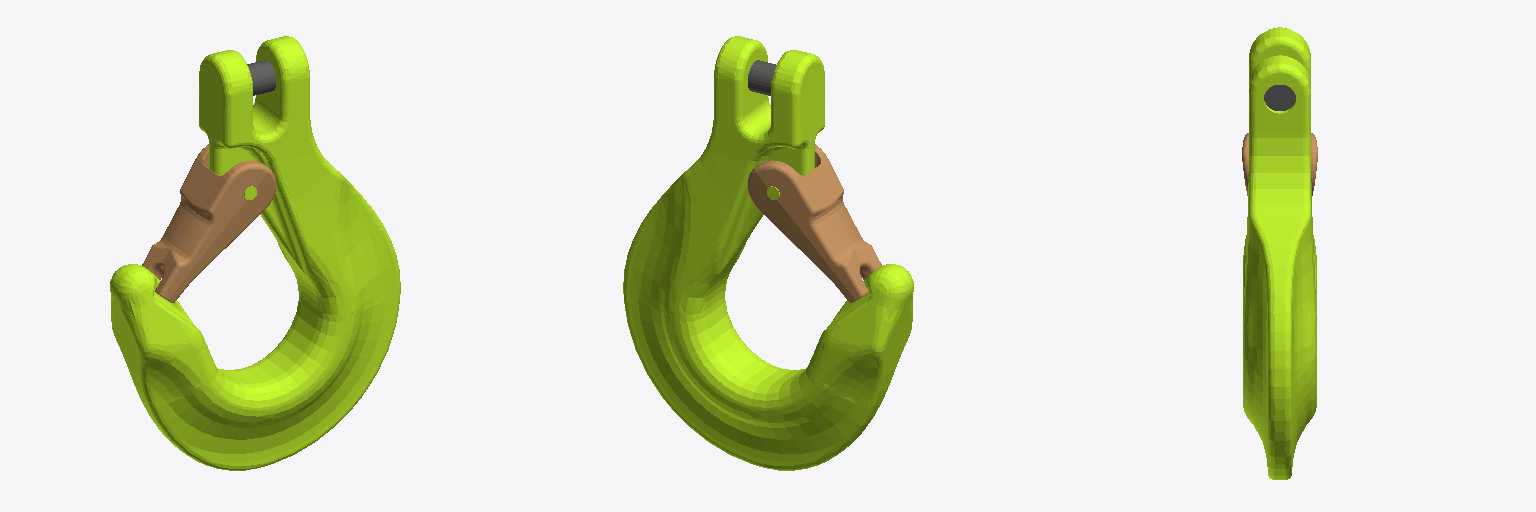
The model's file is gkhsw_10.obj.
3 views of the same model, side by side, from view 1: azimuth 30°, elevation 25°; view 2: azimuth 150°, elevation 25°; view 3: azimuth 270°, elevation 25° (orthographic).
Visible parts, largest first — view 1: gkhsw_10_2, gkhsw_10_3, gkhsw_10_1; view 2: gkhsw_10_2, gkhsw_10_3, gkhsw_10_1; view 3: gkhsw_10_2, gkhsw_10_1, gkhsw_10_3.
Part boxes in pixels (x1,y1,x2,y2): gkhsw_10_2: (110, 36, 400, 470); gkhsw_10_3: (142, 144, 275, 302); gkhsw_10_1: (247, 60, 275, 95); gkhsw_10_2: (623, 36, 913, 470); gkhsw_10_3: (748, 144, 881, 302); gkhsw_10_1: (748, 60, 775, 95); gkhsw_10_2: (1243, 27, 1316, 479); gkhsw_10_1: (1264, 85, 1295, 110); gkhsw_10_3: (1242, 133, 1317, 195).
Bounding box in the file's own units: 132 × 187 × 30.99.